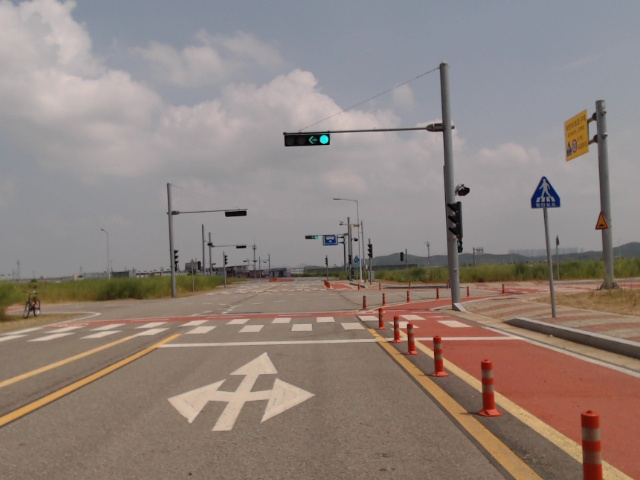all_green_4: (284, 133, 331, 146), (305, 235, 318, 239)
